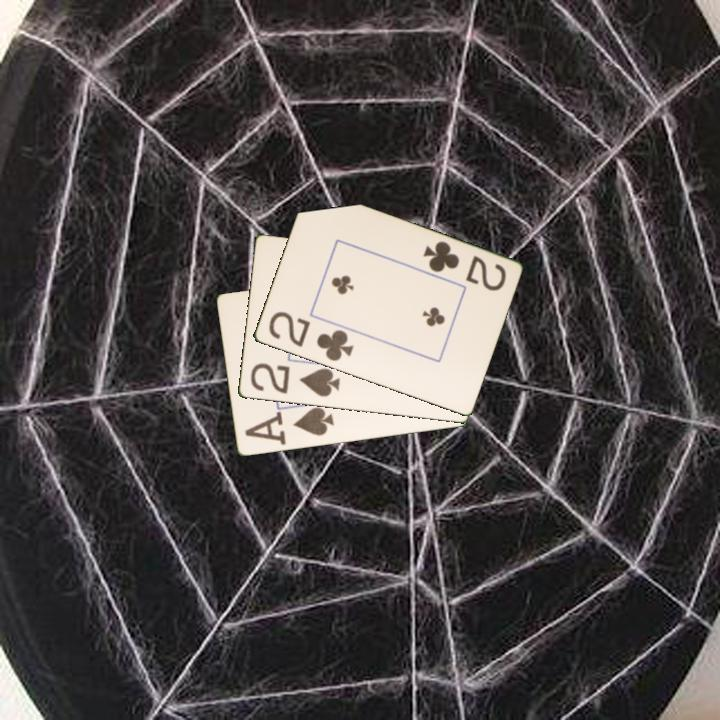2c: (265, 308, 356, 364), (419, 238, 509, 294)
2s: (246, 360, 342, 400)
As: (250, 404, 337, 439)
